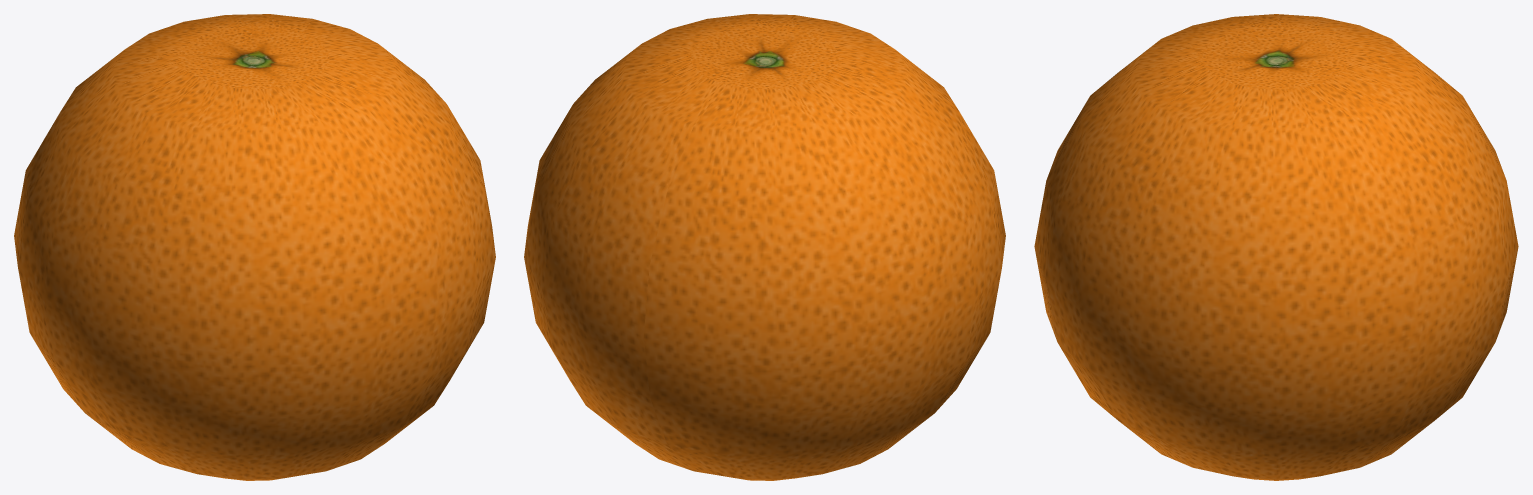
File: orange.FBX
3 views of the same model, side by side, from view 1: azimuth 30°, elevation 25°; view 2: azimuth 150°, elevation 25°; view 3: azimuth 270°, elevation 25° (orthographic).
Visible parts, largest first — view 1: orange; view 2: orange; view 3: orange.
Boxes of the visible parts, x1=… form: orange: x1=14, y1=14, x2=495, y2=480; orange: x1=524, y1=14, x2=1005, y2=480; orange: x1=1034, y1=14, x2=1518, y2=480.
Size of the model in its own units: 7.59 by 6.95 by 7.59.
Materials: 1 (1 with a texture image).
